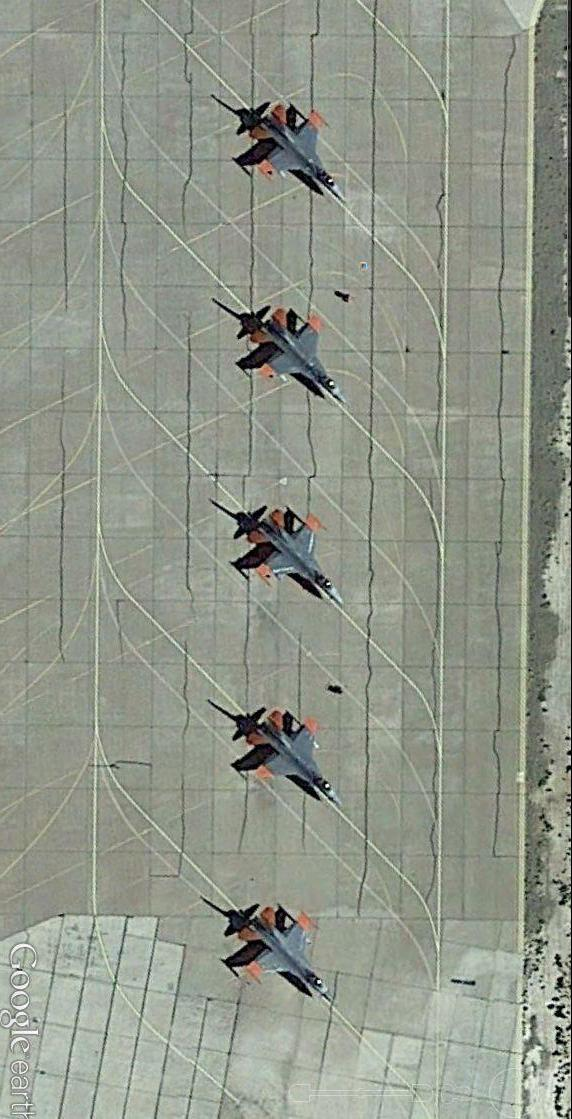F-16: (234, 295, 348, 417), (232, 696, 341, 812), (224, 896, 337, 1002), (238, 98, 346, 203), (235, 504, 343, 609)
